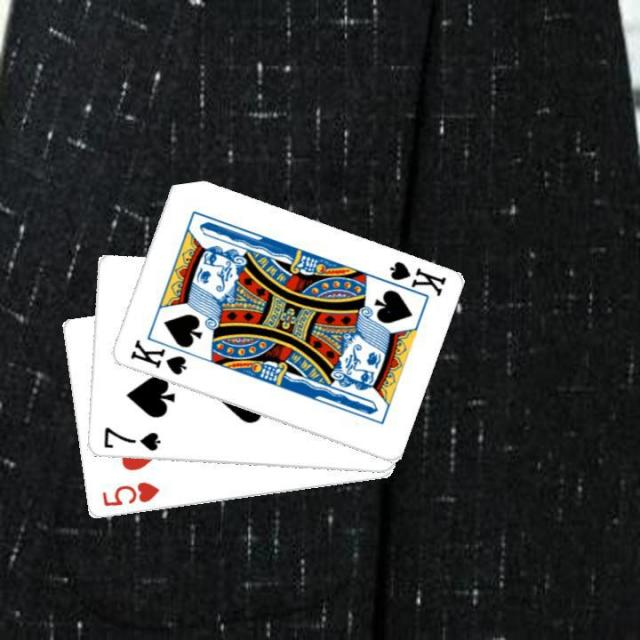5H: (98, 478, 161, 509)
7S: (98, 424, 162, 453)
KS: (375, 257, 447, 301), (125, 336, 188, 378)
